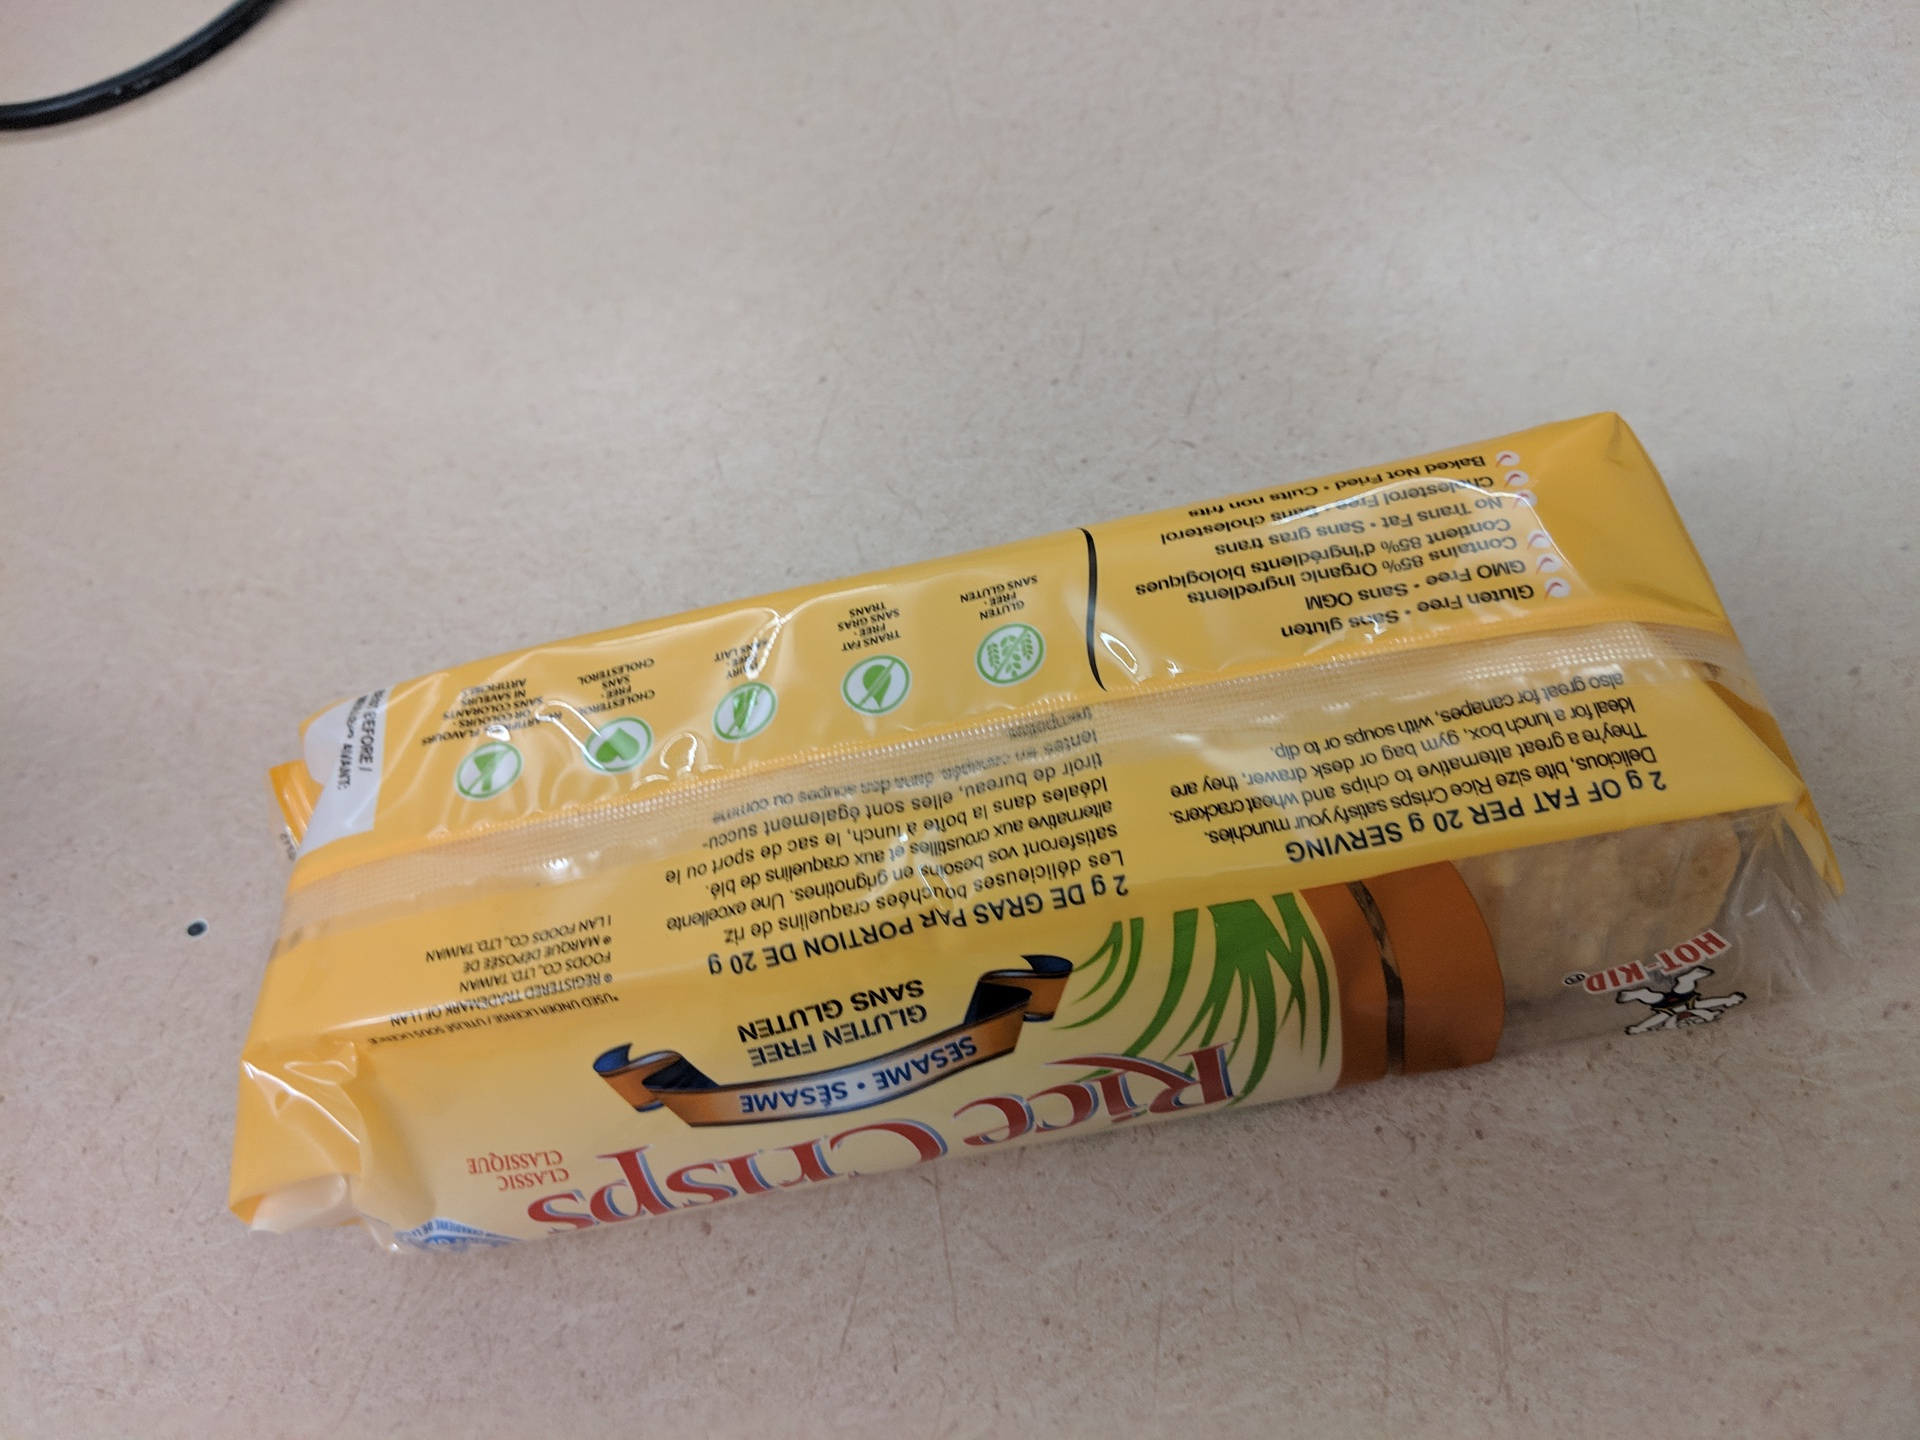hot_kid_rice_crisps_sesame: (220, 408, 1856, 1269)
